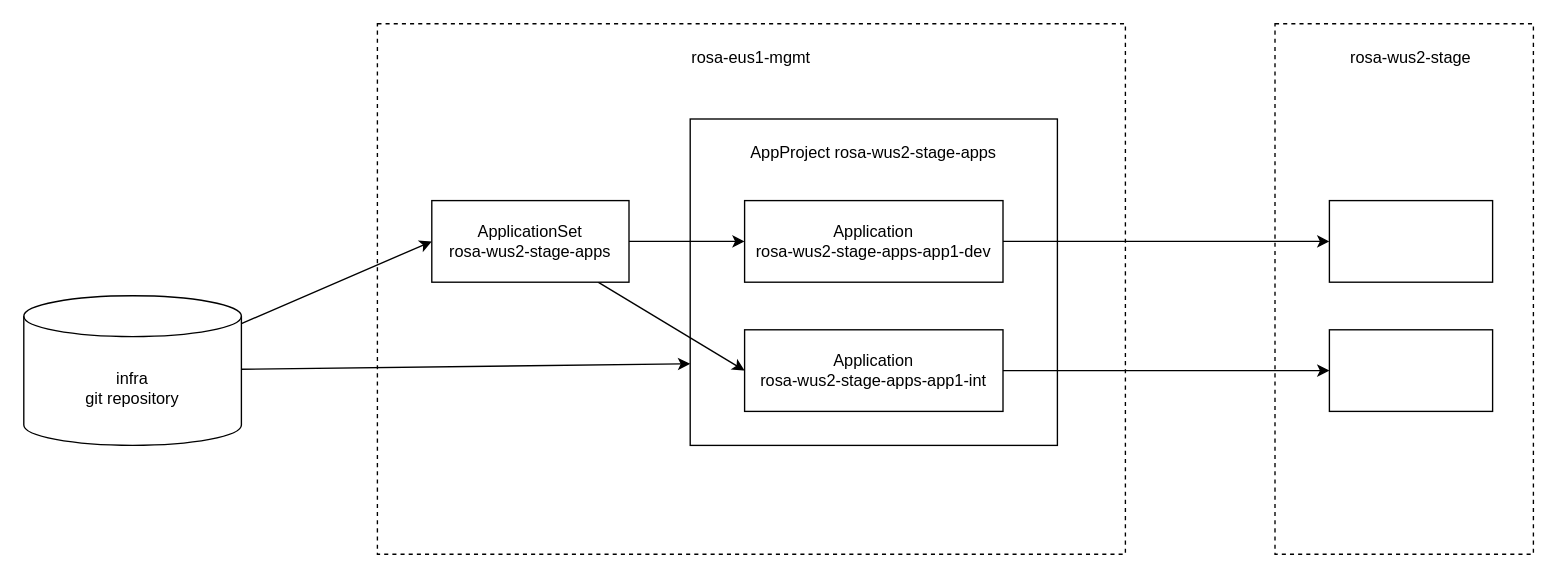
Some shapes in this 1557 by 578 pixel diagram are drawn without their labels. Each missing label, with the centre of its shape:
app1-dev: point (1410, 240)
app1-int: point (1410, 369)
